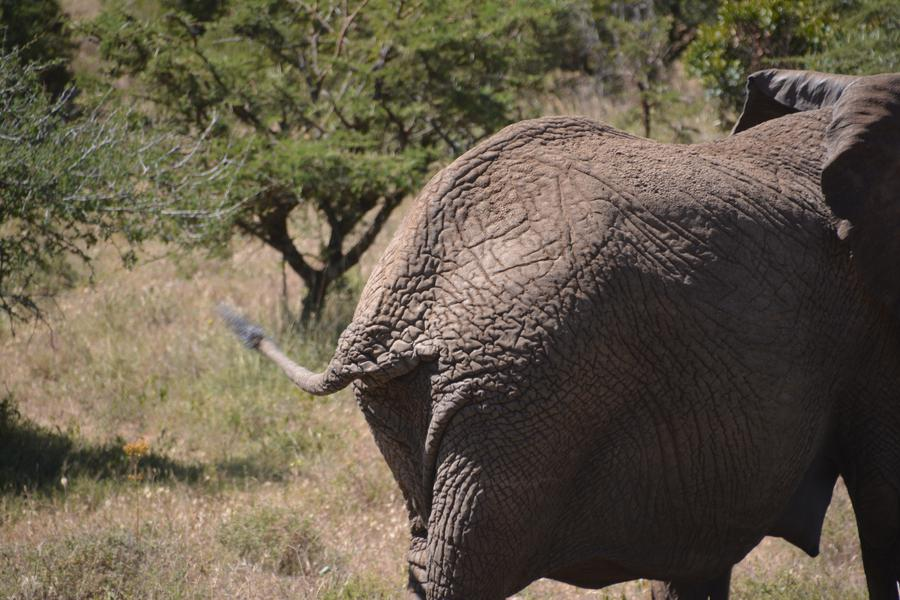elephant: (330, 68, 897, 588)
